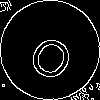O: (25, 25, 81, 84)
